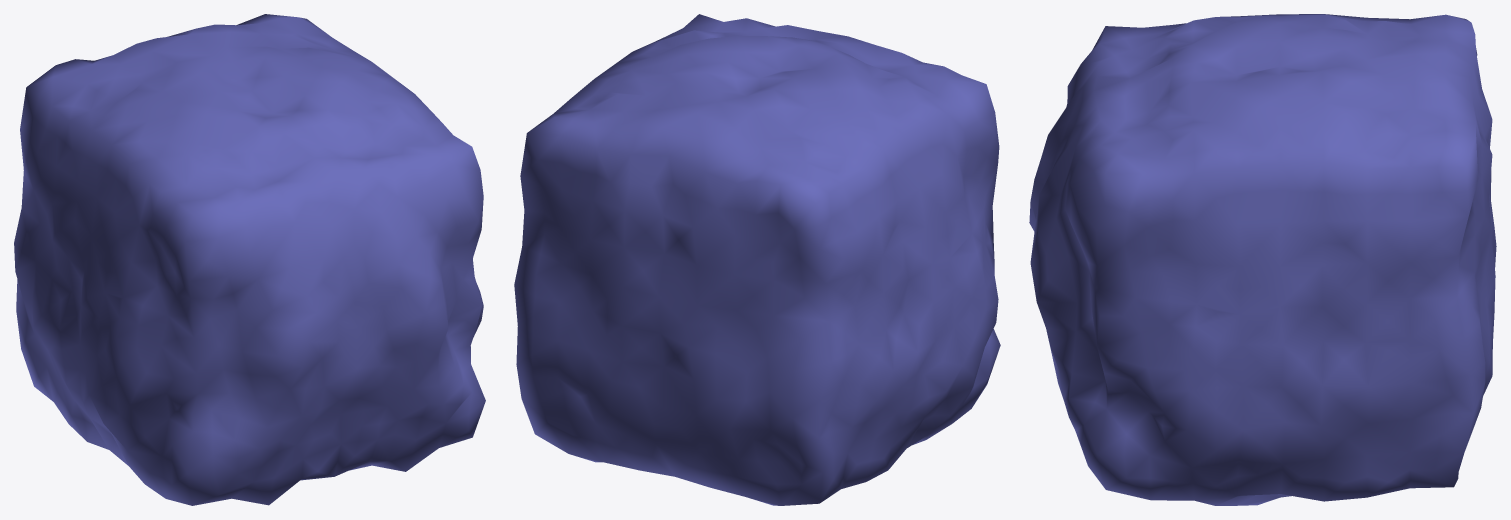
File: AlphaModelTest.fbx
The picture shows the model from 3 angles, left to right: view 1: azimuth 30°, elevation 25°; view 2: azimuth 150°, elevation 25°; view 3: azimuth 270°, elevation 25°; orthographic projection. The views are drawn at different scales.
Parts seen in each view (by area): view 1: Cube; view 2: Cube; view 3: Cube.
Boxes of the visible parts, bbox=[...] form: Cube: bbox=[14, 14, 485, 505]; Cube: bbox=[514, 14, 1000, 505]; Cube: bbox=[1029, 14, 1496, 505].
Size of the model in its own units: 271 by 262 by 263.
1 material, 1 textured.
